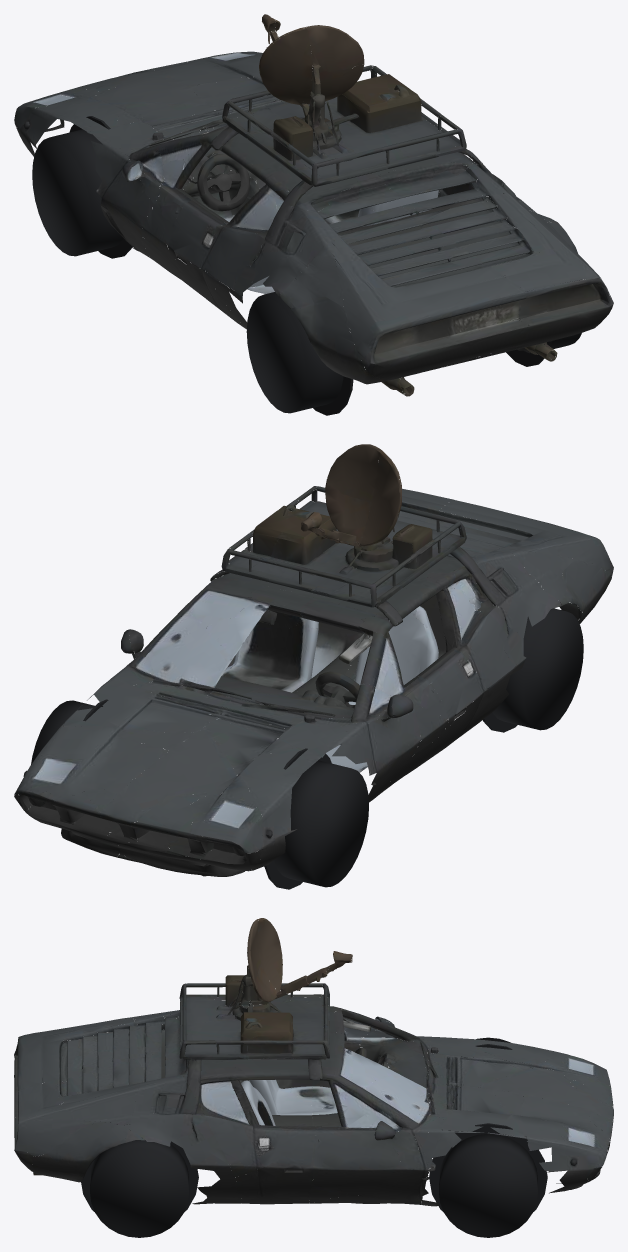
File: arrow_wheels.glb
3 views of the same model, one above another, from view 1: azimuth 30°, elevation 25°; view 2: azimuth 150°, elevation 25°; view 3: azimuth 270°, elevation 25° (orthographic). The views are drawn at different scales.
Parts seen in each view (by area): view 1: tripo_node_07452142-7878-4b56-a25f-cb7a855b6ae8, wheel_FL, wheel_RL, wheel_RR; view 2: tripo_node_07452142-7878-4b56-a25f-cb7a855b6ae8, wheel_FL, wheel_RL, wheel_FR; view 3: tripo_node_07452142-7878-4b56-a25f-cb7a855b6ae8, wheel_FR, wheel_RR.
Part boxes in pixels (<box>): tripo_node_07452142-7878-4b56-a25f-cb7a855b6ae8: <box>14,14,613,396</box>; wheel_FL: <box>32,116,132,258</box>; wheel_RL: <box>246,278,353,415</box>; wheel_RR: <box>506,229,581,366</box>; tripo_node_07452142-7878-4b56-a25f-cb7a855b6ae8: <box>14,444,613,876</box>; wheel_FL: <box>262,748,368,889</box>; wheel_RL: <box>479,608,583,732</box>; wheel_FR: <box>31,699,108,791</box>; tripo_node_07452142-7878-4b56-a25f-cb7a855b6ae8: <box>14,918,613,1206</box>; wheel_FR: <box>429,1123,547,1237</box>; wheel_RR: <box>81,1130,198,1237</box>.
Size of the model in its own units: 1.95 by 2.03 by 4.3.
4 materials, 1 textured.
